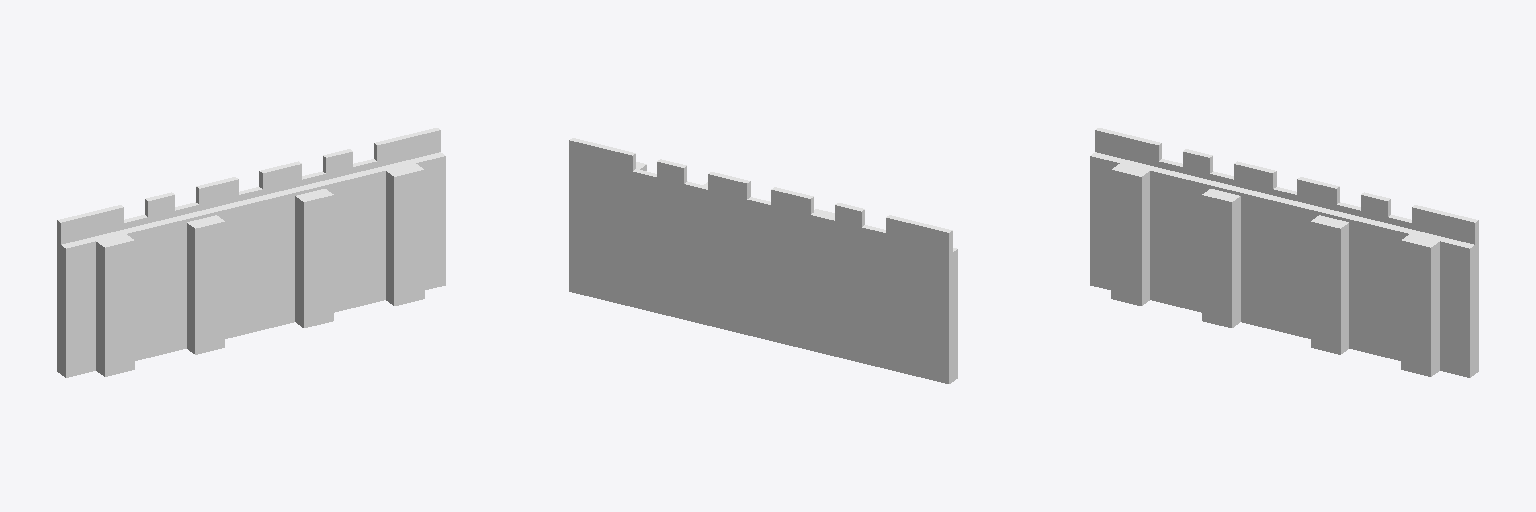
Rendered from GateWall.obj.
The picture shows the model from 3 angles: view 1: azimuth 30°, elevation 25°; view 2: azimuth 150°, elevation 25°; view 3: azimuth 330°, elevation 25°; orthographic projection.
Visible parts, largest first — view 1: Gate_2; view 2: Gate_2; view 3: Gate_2.
Part boxes in pixels (x1,y1,x2,y2): Gate_2: (57,128,445,377); Gate_2: (569,138,957,383); Gate_2: (1090,128,1478,377).
Size of the model in its own units: 126 by 48 by 10.